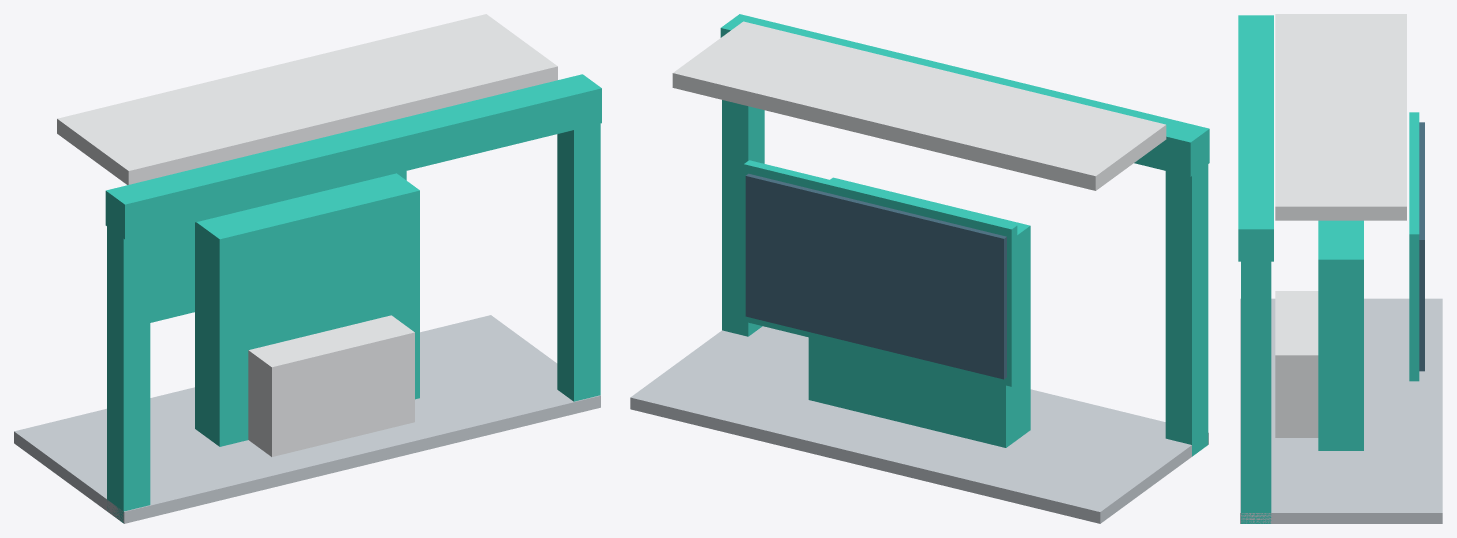
3 renders of one model, left to right at view 1: azimuth 30°, elevation 25°; view 2: azimuth 150°, elevation 25°; view 3: azimuth 270°, elevation 25°, orthographic. The views are drawn at different scales.
Parts seen in each view (by area): view 1: Exhibition Booth Concept; view 2: Exhibition Booth Concept; view 3: Exhibition Booth Concept.
Part boxes in pixels (x1=…): Exhibition Booth Concept: x1=14, y1=14, x2=601, y2=523; Exhibition Booth Concept: x1=630, y1=14, x2=1209, y2=523; Exhibition Booth Concept: x1=1238, y1=14, x2=1442, y2=523.
Size of the model in its own units: 5 by 3.34 by 2.01.
